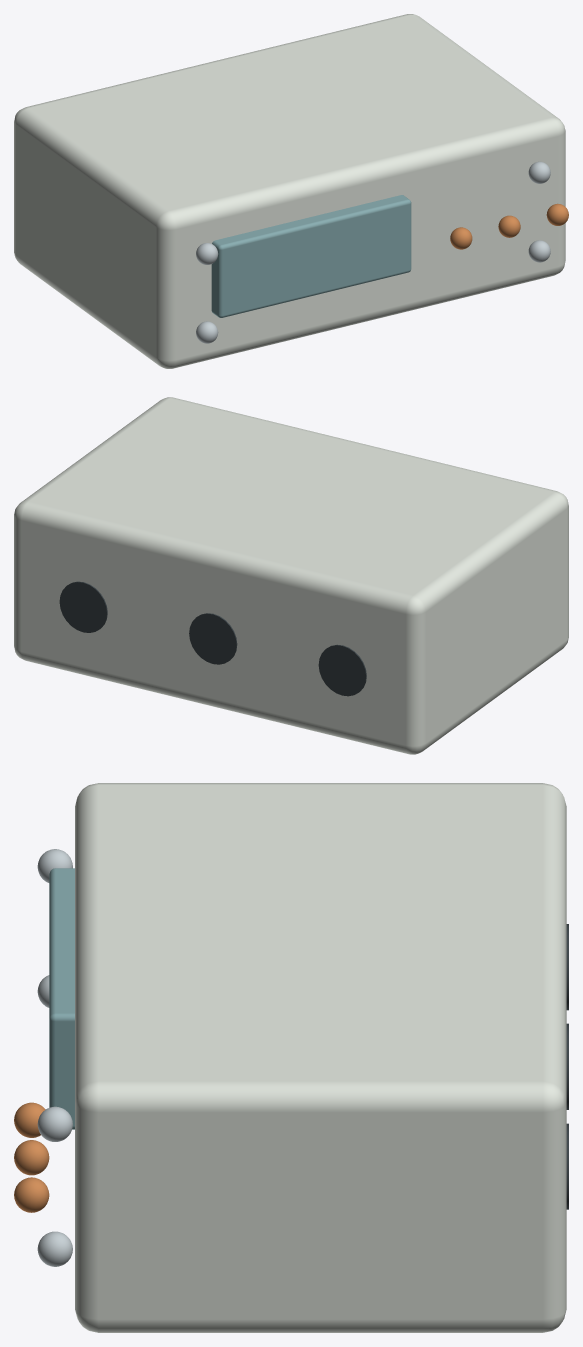
File: abandoned-weather-station-and-storm-shelter-telemetry--6aa84d11__31032.glb
3 views of the same model, one above another, from view 1: azimuth 30°, elevation 25°; view 2: azimuth 150°, elevation 25°; view 3: azimuth 270°, elevation 25° (orthographic). The views are drawn at different scales.
Parts seen in each view (by area): view 1: telemetry-logger; view 2: telemetry-logger; view 3: telemetry-logger.
Boxes of the visible parts, x1,y1,x2,y2 form: telemetry-logger: (14,14,568,368); telemetry-logger: (14,397,568,754); telemetry-logger: (14,783,568,1332).
Bounding box in the file's own units: 0.38 × 0.14 × 0.2822.
